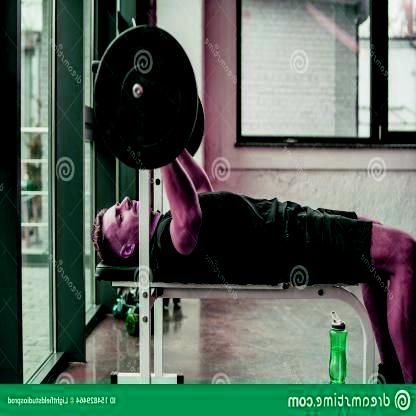Barbell: (130, 82, 144, 101)
